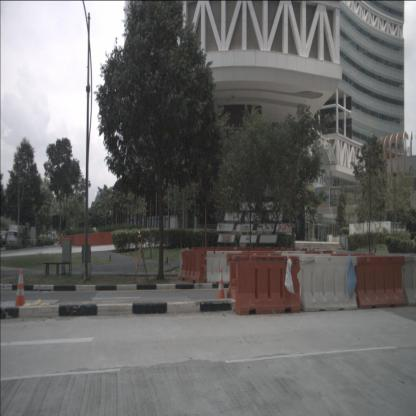movable_object-barrier: (232, 255, 300, 314), (298, 254, 358, 312), (355, 254, 407, 309), (206, 250, 242, 286), (180, 250, 206, 284), (401, 255, 416, 308)
movable_object-trafficcone: (14, 268, 27, 315), (216, 268, 226, 309)
vehicle-car: (0, 229, 13, 247)
vehicle-truck: (6, 224, 26, 249)
